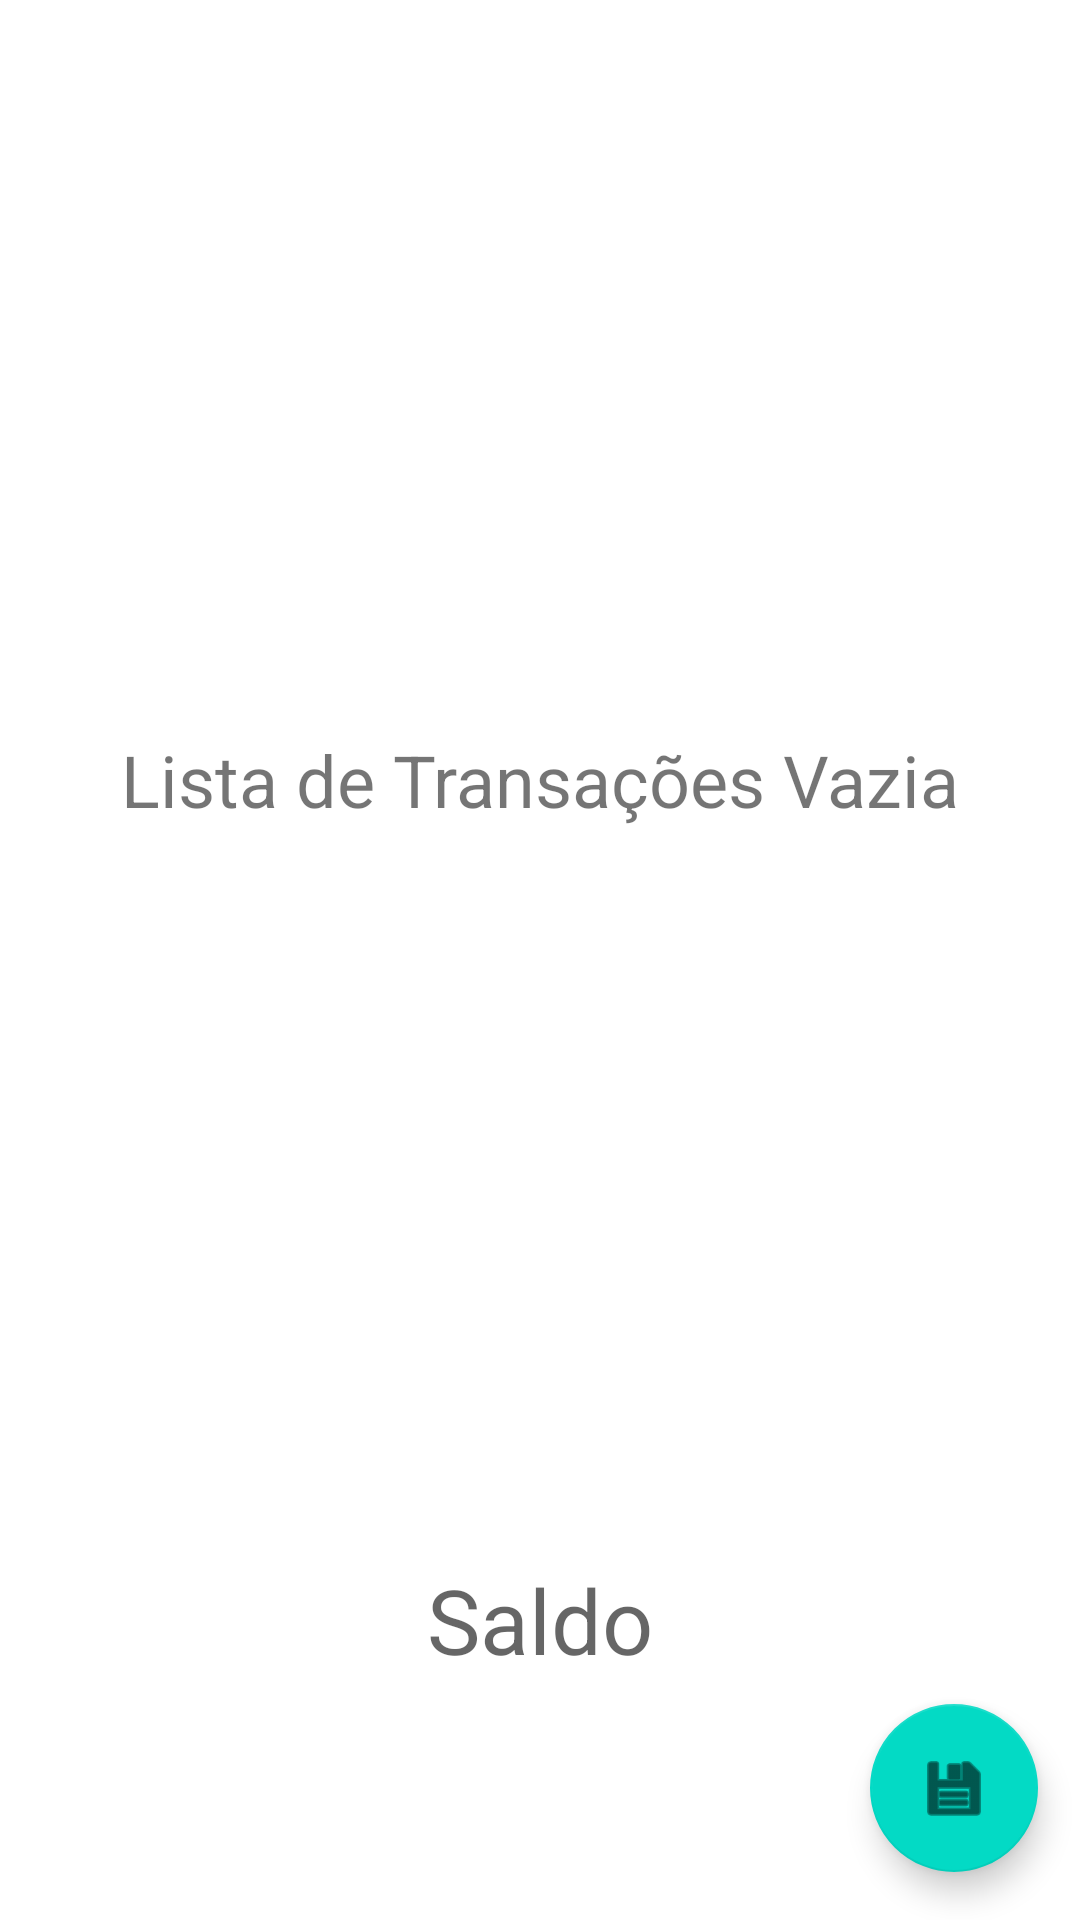

Locate icon controls on the screen. Image size 1080 x 1920, boxes as (x1,y1,x2,y2).
save: (870,1704,1038,1872)
